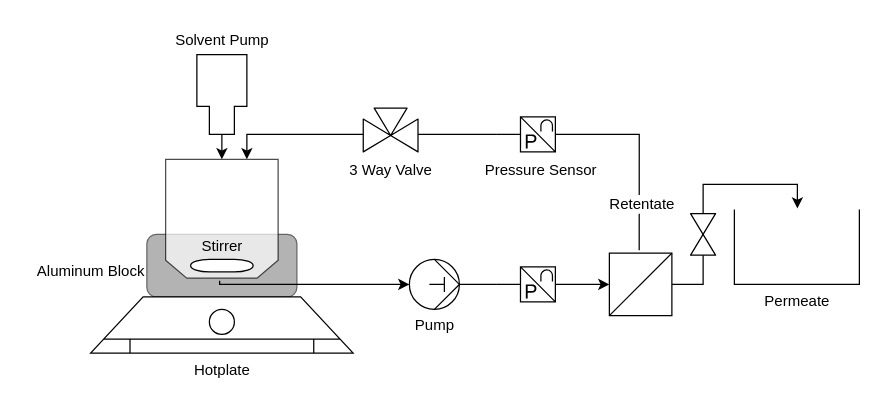
Some shapes in this 881 by 400 pixel diagram are drawn without their labels. Here are the shapes that lost their labels. From the top down, the centre of each, then its label:
point 221,218: Stir cell
point 640,284: Membrane
